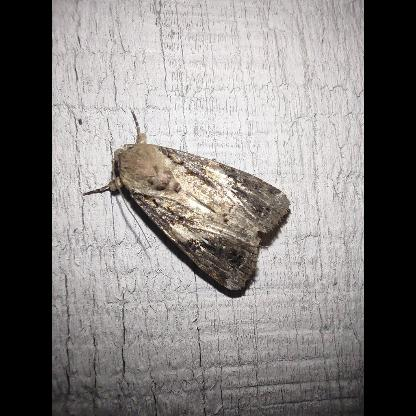Fall Armyworm Moth: (81, 108, 294, 292)
